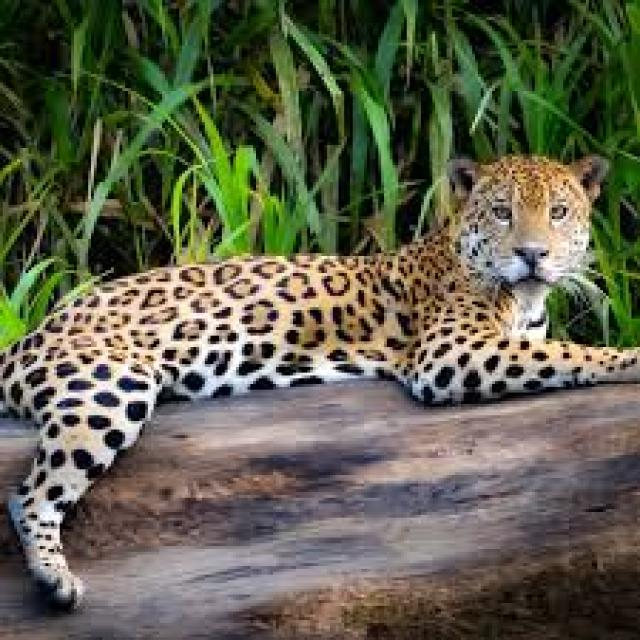Jaguar: (6, 150, 632, 554)
